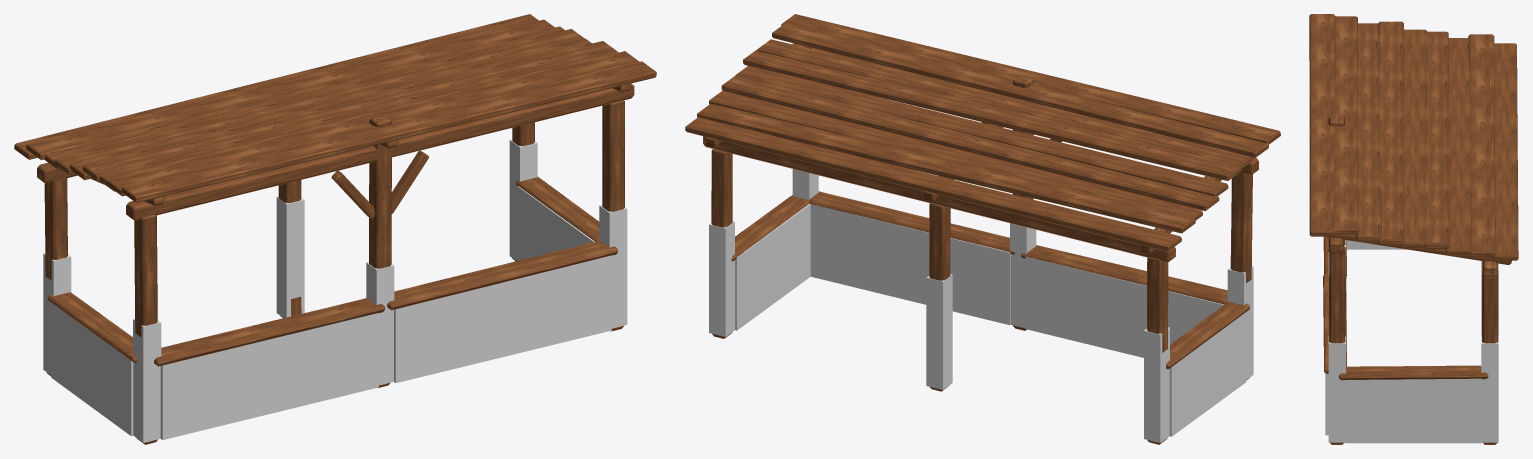
The model's file is SM_Stall_Double.fbx.
3 renders of one model, left to right at view 1: azimuth 30°, elevation 25°; view 2: azimuth 150°, elevation 25°; view 3: azimuth 270°, elevation 25°, orthographic. The views are drawn at different scales.
Visible parts, largest first — view 1: StallDouble_Body, StallDouble_Col6, StallDouble_Col7, StallDouble_Col8, StallDouble_Col0, StallDouble_Col3, StallDouble_Col9, StallDouble_Col4, StallDouble_Col2, StallDouble_Col5, StallDouble_Col1; view 2: StallDouble_Body, StallDouble_Col7, StallDouble_Col6, StallDouble_Col9, StallDouble_Col8, StallDouble_Col3, StallDouble_Col5, StallDouble_Col1, StallDouble_Col2, StallDouble_Col0, StallDouble_Col4; view 3: StallDouble_Body, StallDouble_Col9, StallDouble_Col5, StallDouble_Col4, StallDouble_Col8, StallDouble_Col7.
Boxes of the visible parts, <box> form: StallDouble_Body: <box>14,14,656,444</box>; StallDouble_Col6: <box>160,313,378,439</box>; StallDouble_Col7: <box>394,255,611,382</box>; StallDouble_Col8: <box>51,303,133,436</box>; StallDouble_Col0: <box>133,319,161,442</box>; StallDouble_Col3: <box>276,196,304,317</box>; StallDouble_Col9: <box>517,186,594,260</box>; StallDouble_Col4: <box>599,205,627,328</box>; StallDouble_Col2: <box>366,262,394,385</box>; StallDouble_Col5: <box>509,139,537,260</box>; StallDouble_Col1: <box>43,253,71,374</box>; StallDouble_Body: <box>685,14,1280,444</box>; StallDouble_Col7: <box>810,204,1010,325</box>; StallDouble_Col6: <box>1025,256,1224,357</box>; StallDouble_Col9: <box>735,204,810,330</box>; StallDouble_Col8: <box>1169,312,1246,436</box>; StallDouble_Col3: <box>926,274,952,389</box>; StallDouble_Col5: <box>709,221,734,336</box>; StallDouble_Col1: <box>1144,327,1169,442</box>; StallDouble_Col2: <box>1010,223,1036,328</box>; StallDouble_Col0: <box>1227,266,1253,379</box>; StallDouble_Col4: <box>792,169,818,200</box>; StallDouble_Body: <box>1309,14,1518,444</box>; StallDouble_Col9: <box>1345,378,1481,443</box>; StallDouble_Col5: <box>1481,336,1498,442</box>; StallDouble_Col4: <box>1328,336,1345,442</box>; StallDouble_Col8: <box>1347,240,1406,249</box>; StallDouble_Col7: <box>1325,279,1346,435</box>.
Size of the model in its own units: 23.67 by 11.5 by 9.57.
